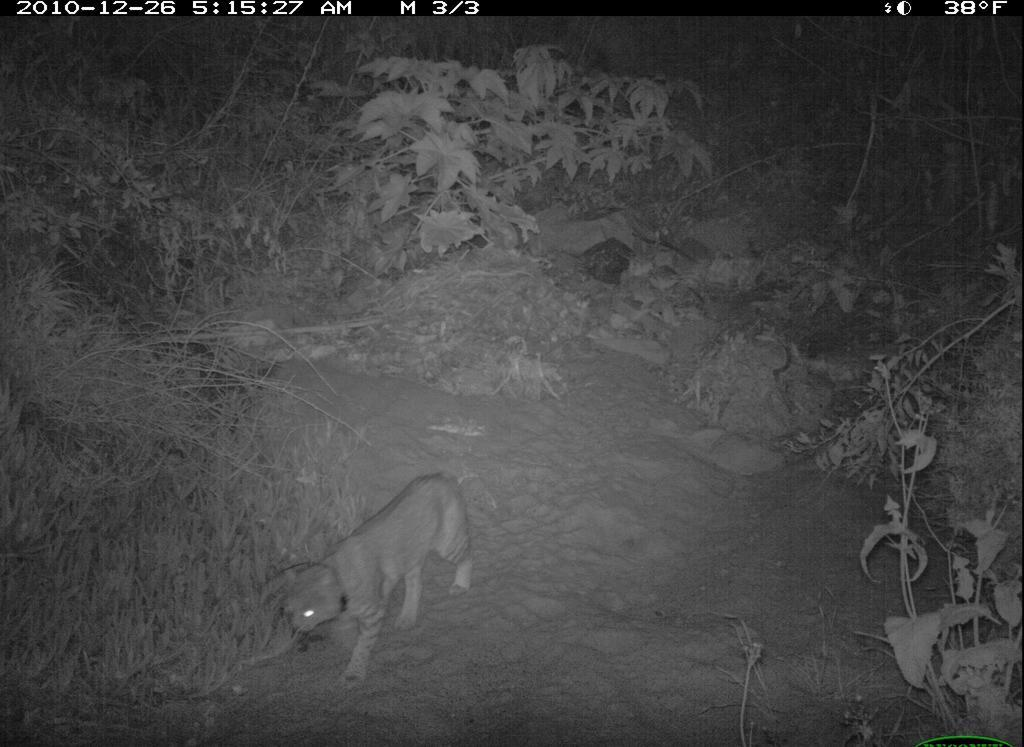bobcat: (265, 457, 498, 690)
